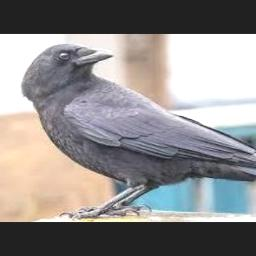Crow: (20, 44, 256, 219)
